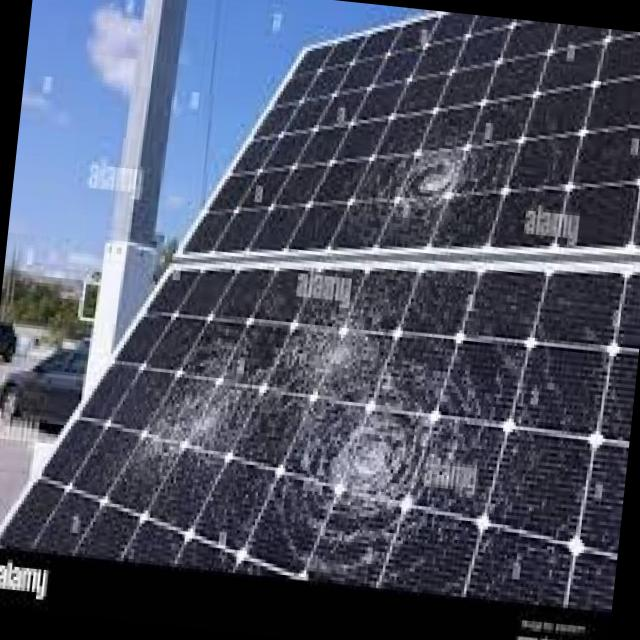faulty: (4, 272, 640, 597), (186, 15, 640, 246)
